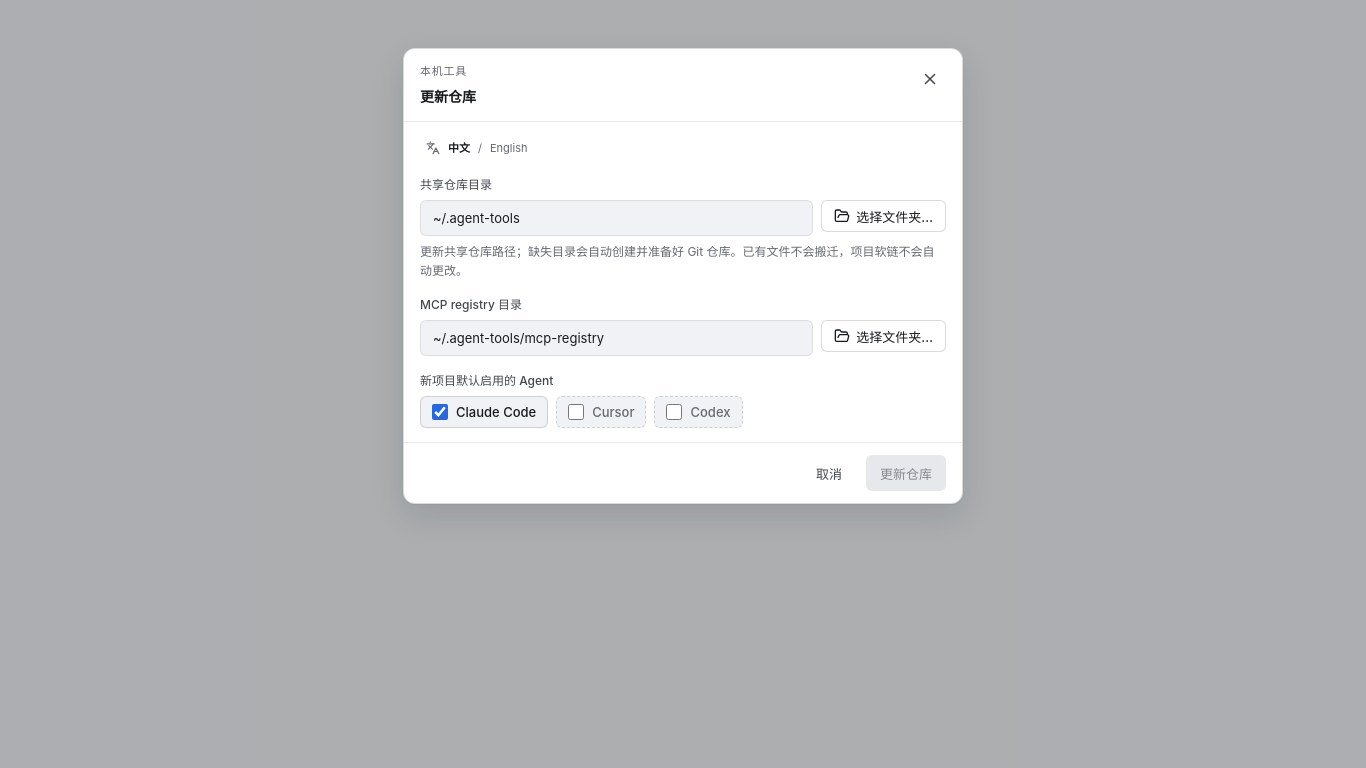
Scenario: directory selection in forms › follows the root and preserves a custom registry in settings
Check: the field labelled "共享仓库目录" holds "~/.agent-tools", box [420, 200, 813, 236]
Click the 1st button "选择文件夹…" at (884, 216), box [821, 200, 946, 232]
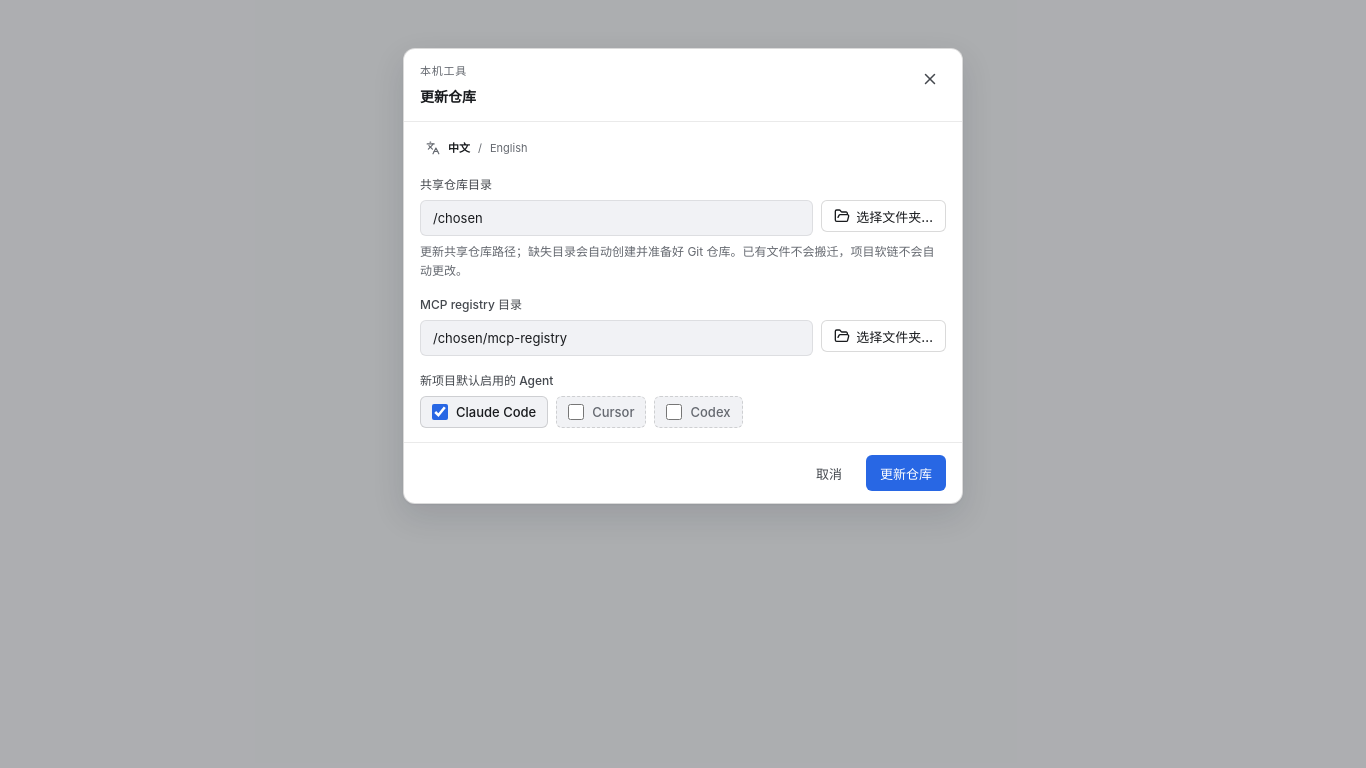
Check: the field labelled "共享仓库目录" holds "/chosen", box [420, 200, 813, 236]
Check: the field labelled "MCP registry 目录" holds "/chosen/mcp-registry", box [420, 320, 813, 356]
Click the 2nd button "选择文件夹…" at (884, 336), box [821, 320, 946, 352]
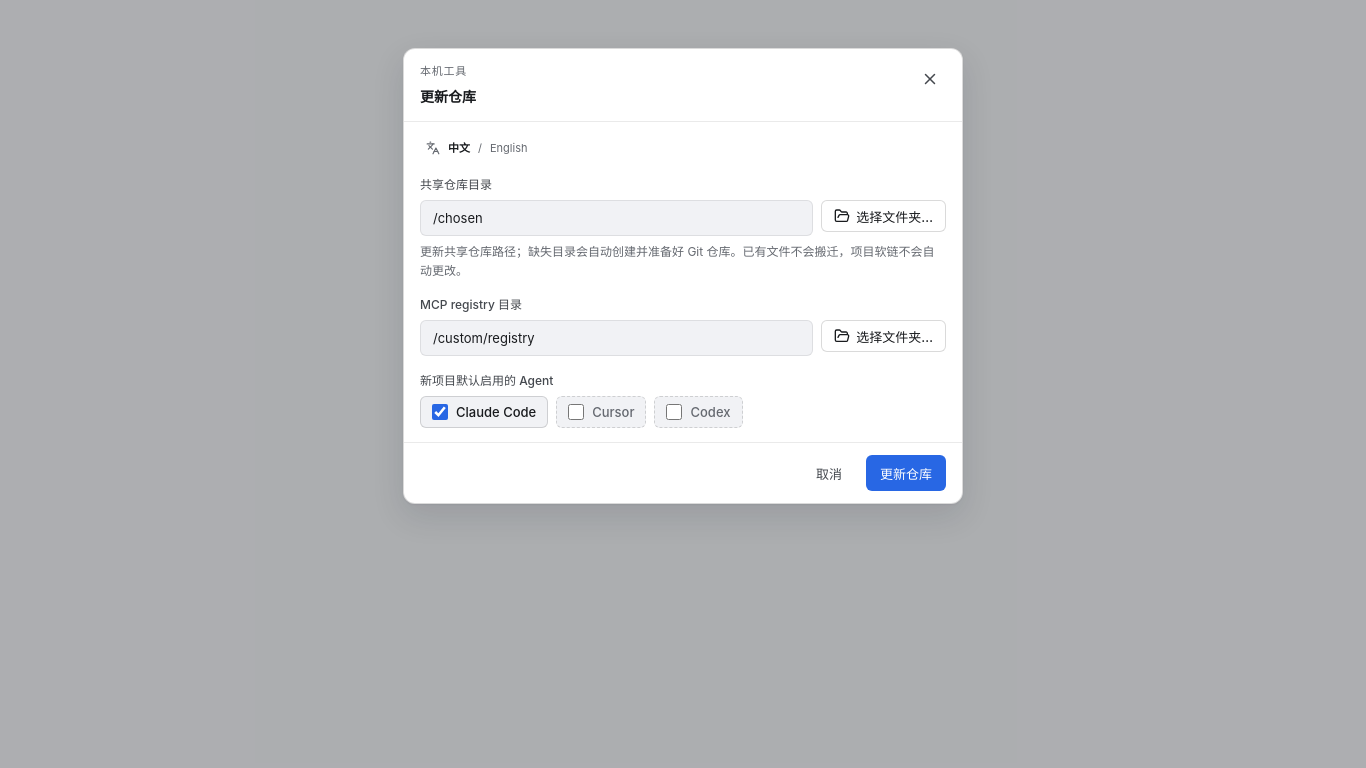
Click the 1st button "选择文件夹…" at (884, 216), box [821, 200, 946, 232]
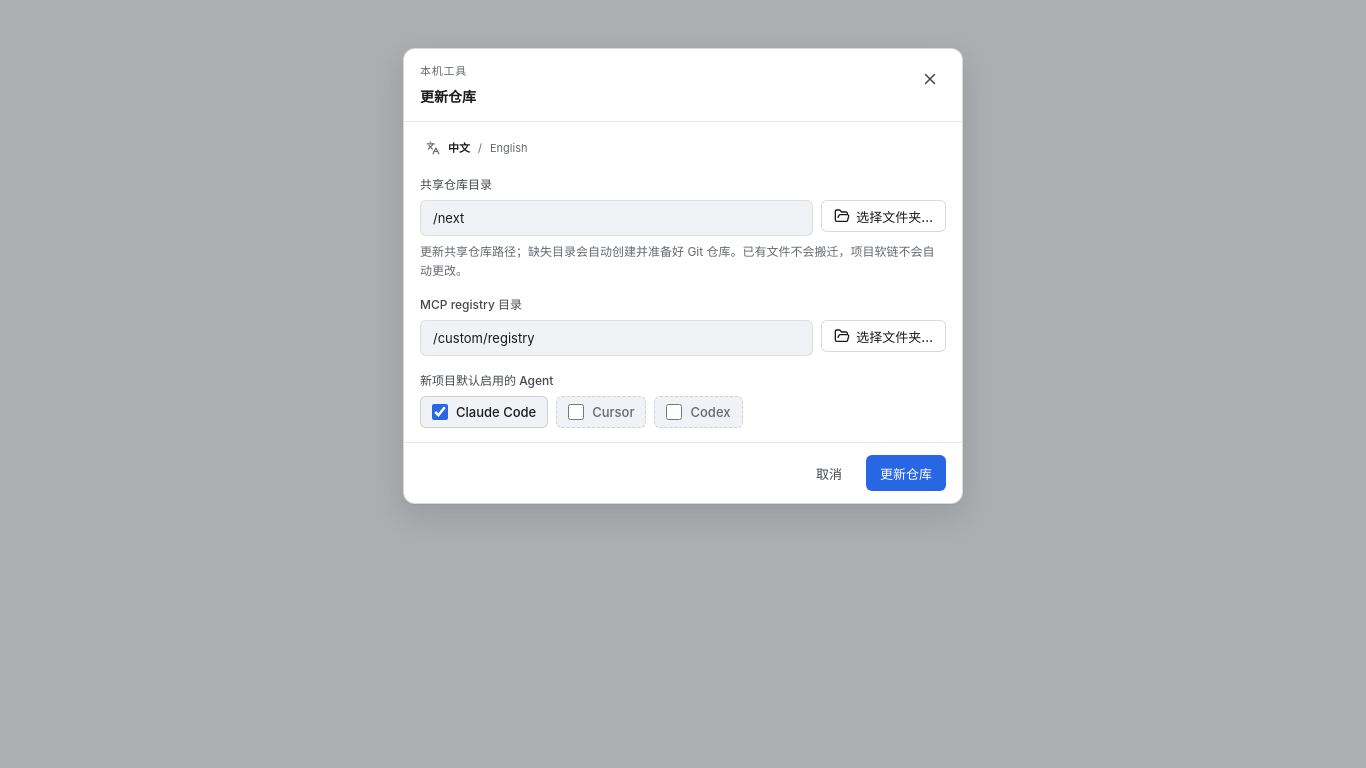
Check: the field labelled "MCP registry 目录" holds "/custom/registry", box [420, 320, 813, 356]
Check: the field labelled "共享仓库目录" holds "/next", box [420, 200, 813, 236]
